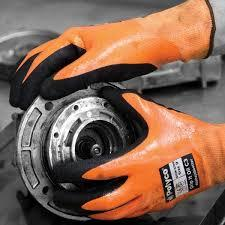gloves: (51, 85, 224, 225), (9, 1, 217, 112)
